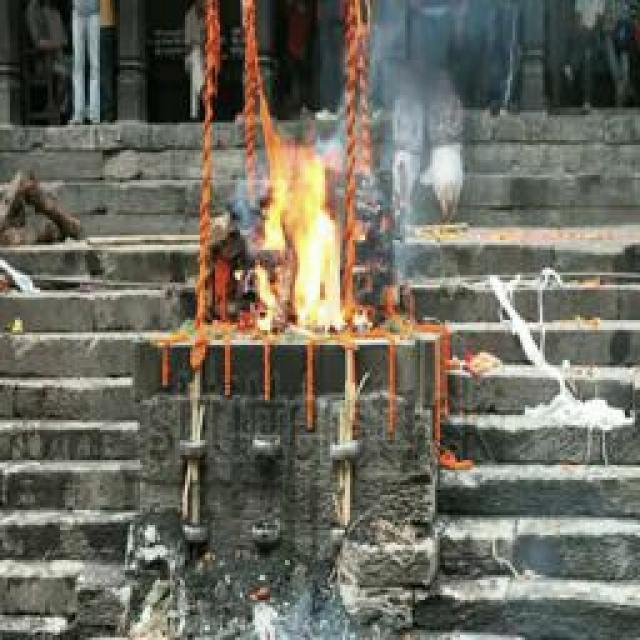Fire: (253, 145, 345, 338)
